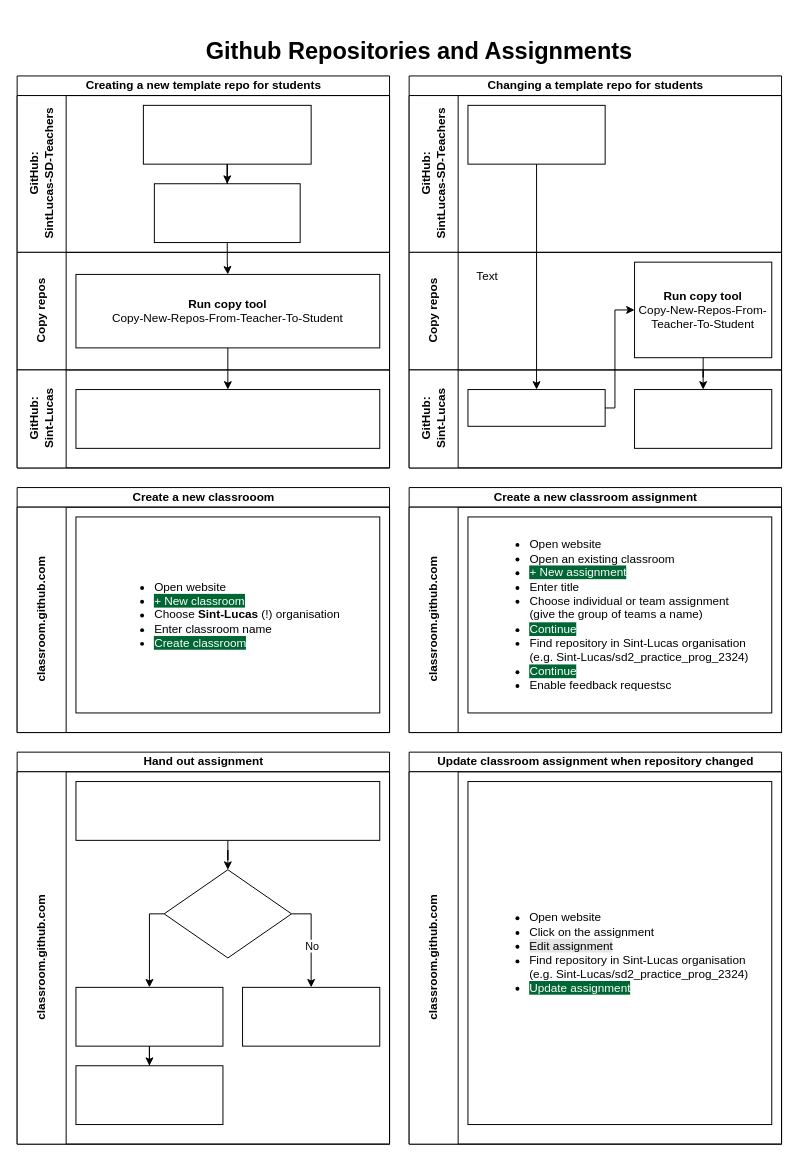
This 799x1161 diagram has some shape labels left out. Here are the shapes that lost their labels. From the top down, the box of each, then its label:
(142, 104, 311, 164): Create the repository, e.g.: sd2_practice_prog_2324 sd4_proj_projectx_2324
(467, 104, 605, 164): Change the repository
(153, 183, 300, 243): Add team/collaborator Classroom_assignments
(75, 389, 380, 448): New repository was copied and ready for use in Github classroom
(467, 389, 605, 426): Delete old repository
(634, 389, 772, 448): Changed repository ready for use.
(75, 781, 380, 840): Copy the invite link Send it to the students
(163, 869, 292, 958): Group assignment?
(75, 986, 223, 1046): 1 student creates team (all names as group name) Accept this assignment
(242, 986, 380, 1046): Student selects name Accept this assignment
(75, 1065, 223, 1125): Other members join this team Accept this assignment
